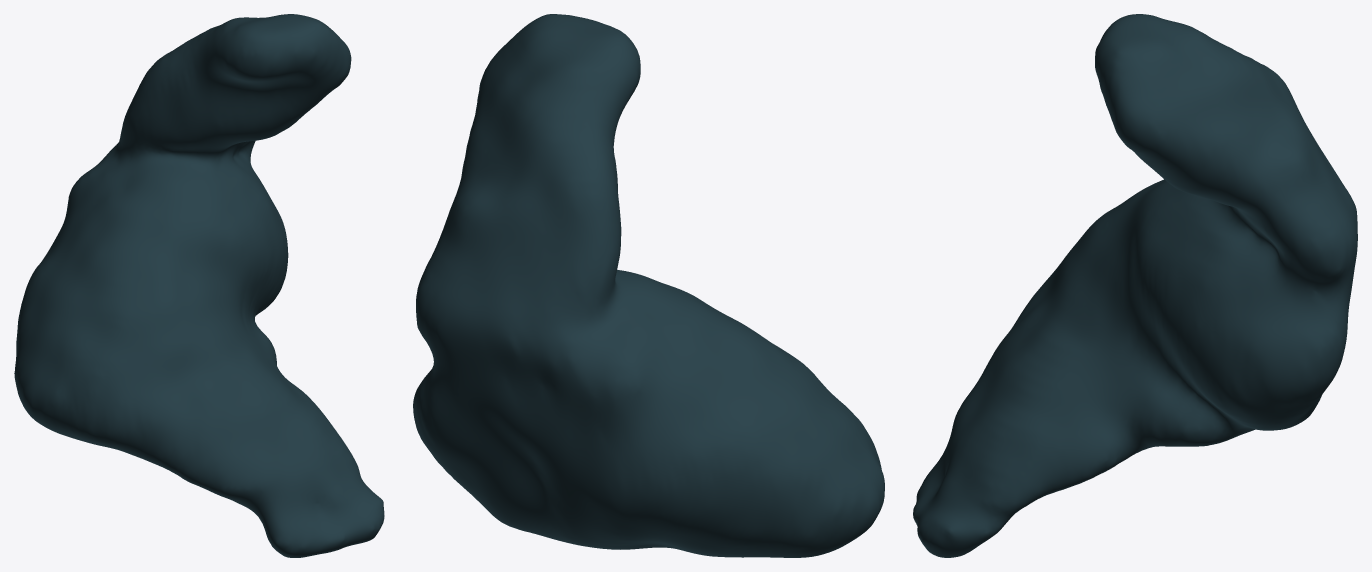
File: rectum_ge.obj
3 views of the same model, side by side, from view 1: azimuth 30°, elevation 25°; view 2: azimuth 150°, elevation 25°; view 3: azimuth 270°, elevation 25° (orthographic). The views are drawn at different scales.
Parts seen in each view (by area): view 1: rectum; view 2: rectum; view 3: rectum.
Boxes of the visible parts, x1,y1,x2,y2 form: rectum: (14, 14, 384, 557); rectum: (413, 14, 884, 557); rectum: (913, 14, 1357, 557).
Size of the model in its own units: 13.75 by 18.89 by 14.51.
